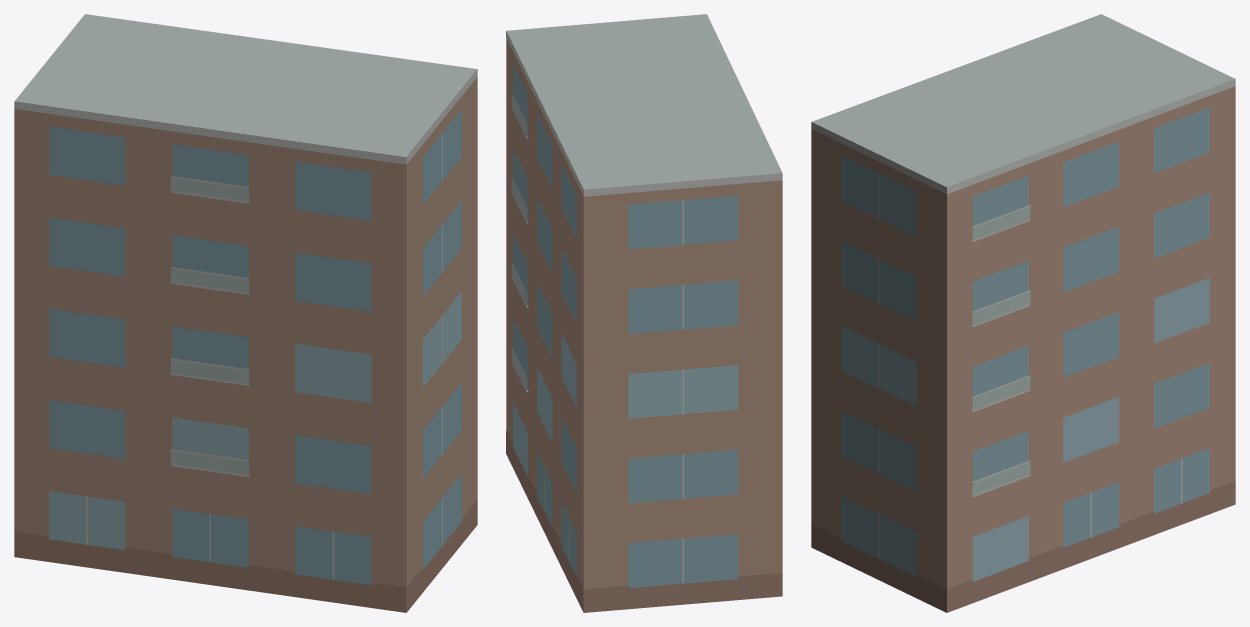
Rendered from survey-upis-32890247.glb.
3 renders of one model, left to right at view 1: azimuth 30°, elevation 25°; view 2: azimuth 150°, elevation 25°; view 3: azimuth 270°, elevation 25°, orthographic. The views are drawn at different scales.
Parts seen in each view (by area): view 1: survey-upis-32890247.tmp; view 2: survey-upis-32890247.tmp; view 3: survey-upis-32890247.tmp.
Part boxes in pixels (left/top/right/bottom): survey-upis-32890247.tmp: left=14, top=14, right=477, bottom=612; survey-upis-32890247.tmp: left=506, top=14, right=782, bottom=612; survey-upis-32890247.tmp: left=811, top=14, right=1235, bottom=612.
Bounding box in the file's own units: 12.85 × 14.7 × 13.28.
